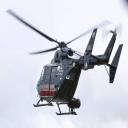helicopter: (7, 10, 124, 116)
